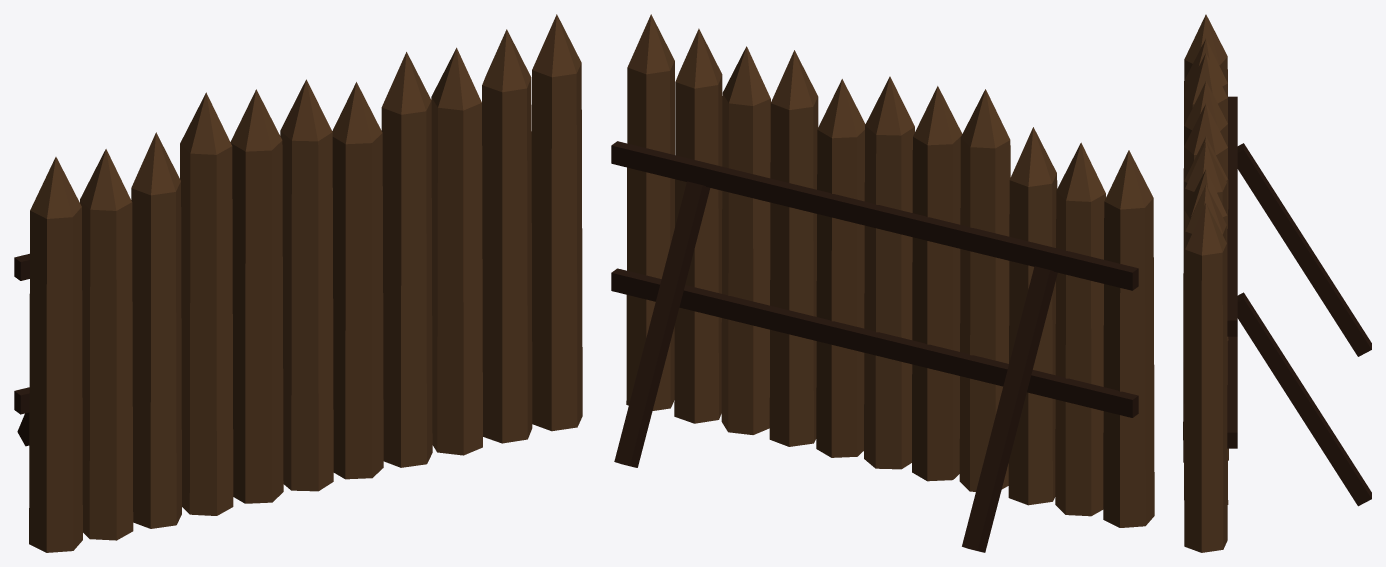
File: empalizada.fbx
3 renders of one model, left to right at view 1: azimuth 30°, elevation 25°; view 2: azimuth 150°, elevation 25°; view 3: azimuth 270°, elevation 25°, orthographic. The views are drawn at different scales.
Visible parts, largest first — view 1: empalizada; view 2: empalizada; view 3: empalizada.
Part boxes in pixels (left/top/right/bottom): empalizada: left=14, top=14, right=582, bottom=552; empalizada: left=611, top=14, right=1154, bottom=552; empalizada: left=1183, top=14, right=1371, bottom=552.
Bounding box in the file's own units: 6.01 × 4.34 × 2.14.
